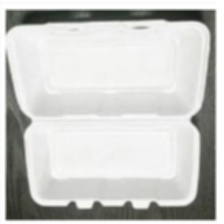foam_box: (5, 13, 213, 213)
